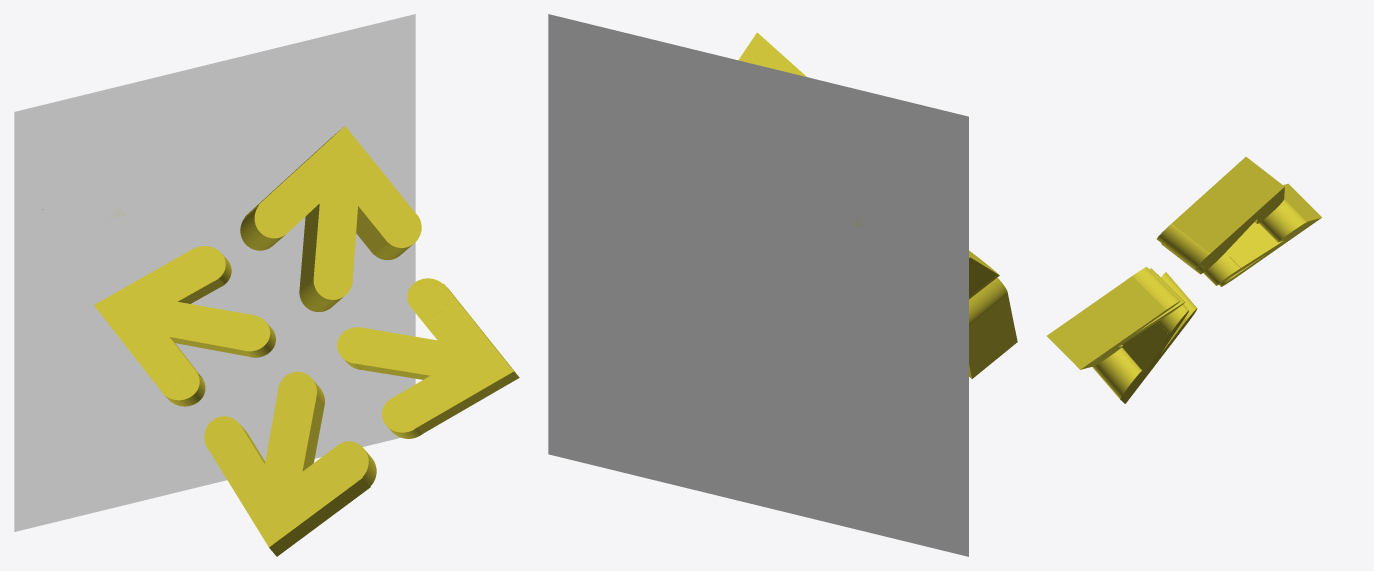
Rendered from forground2.glb.
3 views of the same model, side by side, from view 1: azimuth 30°, elevation 25°; view 2: azimuth 150°, elevation 25°; view 3: azimuth 270°, elevation 25° (orthographic). The views are drawn at different scales.
Visible parts, largest first — view 1: mesh_id1, mesh_id244, mesh_id230, mesh_id63, mesh_id197, mesh_id231, mesh_id229, mesh_id245, mesh_id196, mesh_id198, mesh_id243, mesh_id53 (+4 smaller); view 2: mesh_id1, mesh_id244, mesh_id230, mesh_id246, mesh_id197; view 3: mesh_id230, mesh_id63, mesh_id197, mesh_id244, mesh_id245, mesh_id232, mesh_id198, mesh_id59, mesh_id196, mesh_id243, mesh_id246.
Part boxes in pixels (box(x1,y1,x2,y2)): mesh_id1: box(14, 14, 415, 531); mesh_id244: box(206, 392, 370, 556); mesh_id230: box(245, 126, 417, 288); mesh_id63: box(357, 283, 519, 433); mesh_id197: box(94, 247, 249, 393); mesh_id231: box(240, 198, 294, 250); mesh_id229: box(299, 259, 352, 311); mesh_id245: box(329, 441, 376, 485); mesh_id196: box(229, 314, 275, 357); mesh_id198: box(184, 246, 231, 286); mesh_id243: box(278, 371, 324, 412); mesh_id53: box(337, 327, 378, 369); mesh_id1: box(548, 14, 968, 556); mesh_id244: box(969, 294, 1017, 378); mesh_id230: box(738, 32, 806, 76); mesh_id246: box(969, 277, 1007, 324); mesh_id197: box(969, 250, 998, 296); mesh_id230: box(1169, 157, 1284, 267); mesh_id63: box(1047, 276, 1177, 369); mesh_id197: box(1225, 183, 1321, 277); mesh_id244: box(1092, 318, 1186, 403); mesh_id245: box(1093, 347, 1141, 398); mesh_id232: box(1156, 223, 1221, 269); mesh_id198: box(1259, 199, 1306, 241); mesh_id59: box(1130, 267, 1180, 309); mesh_id196: box(1203, 253, 1245, 285); mesh_id243: box(1157, 274, 1189, 338); mesh_id246: box(1161, 272, 1197, 336).
Size of the model in its own units: 0.512 by 0.512 by 0.3923.
Materials: 17 (17 with a texture image).
